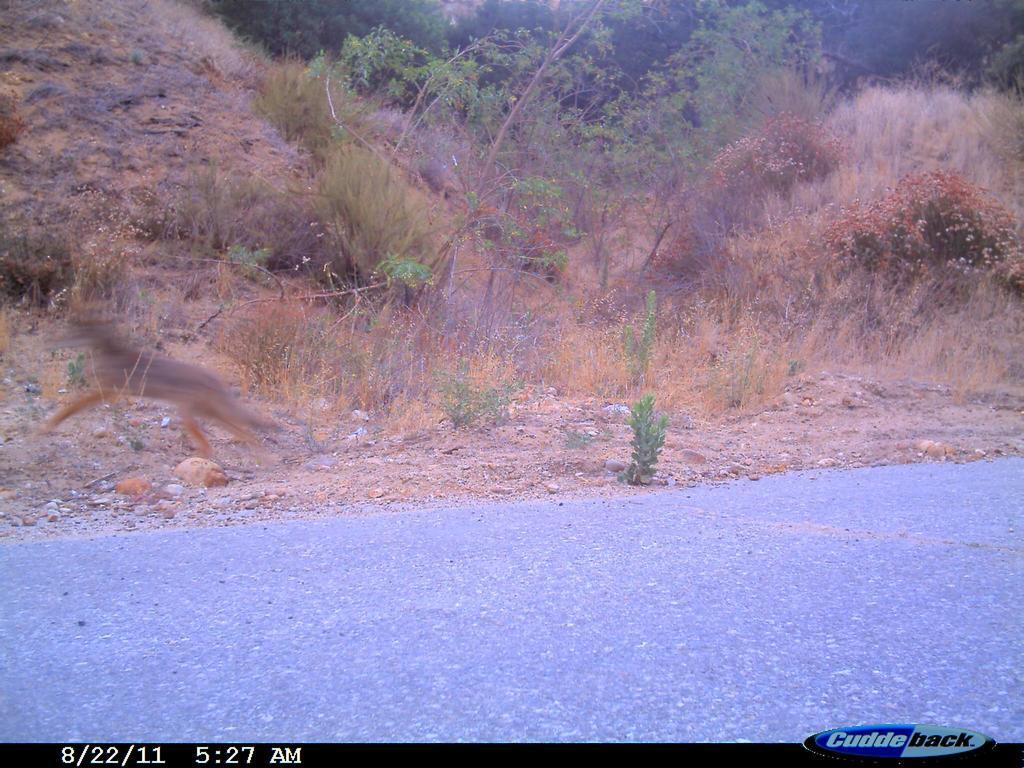coyote: (49, 306, 297, 495)
